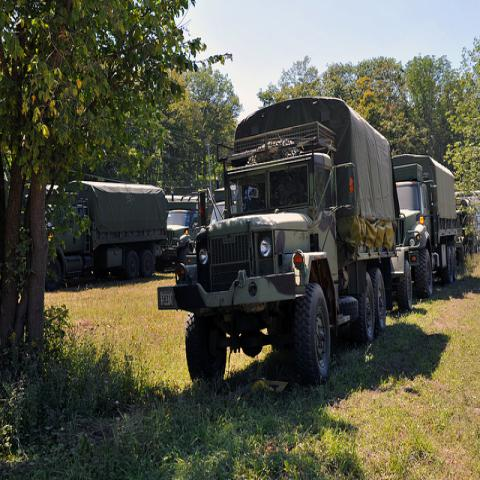truck: (157, 100, 400, 388), (389, 152, 464, 313), (70, 179, 168, 280), (156, 190, 198, 277)
